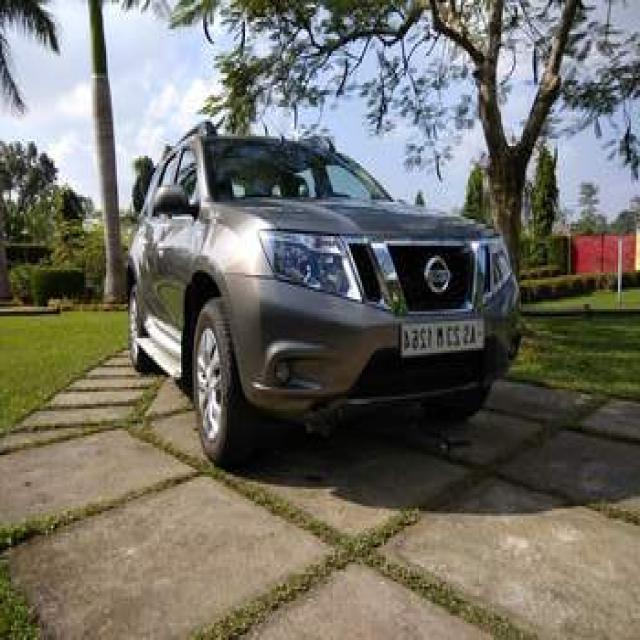number-plate: (385, 292, 490, 370)
